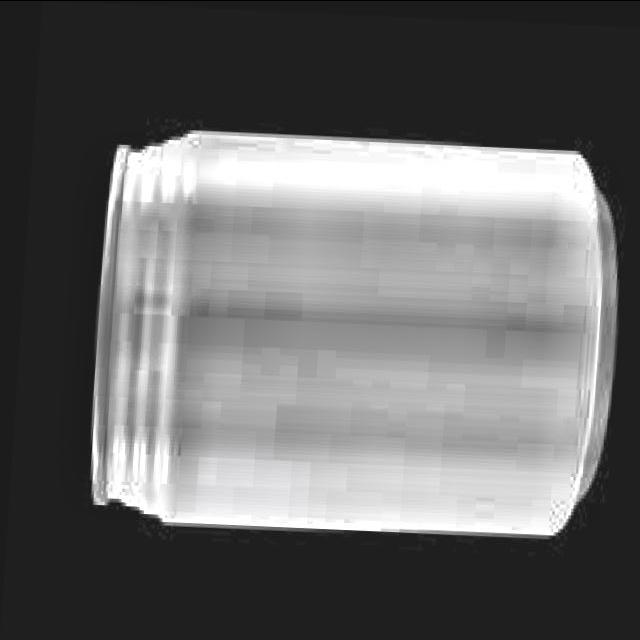litter: (74, 113, 630, 544)
